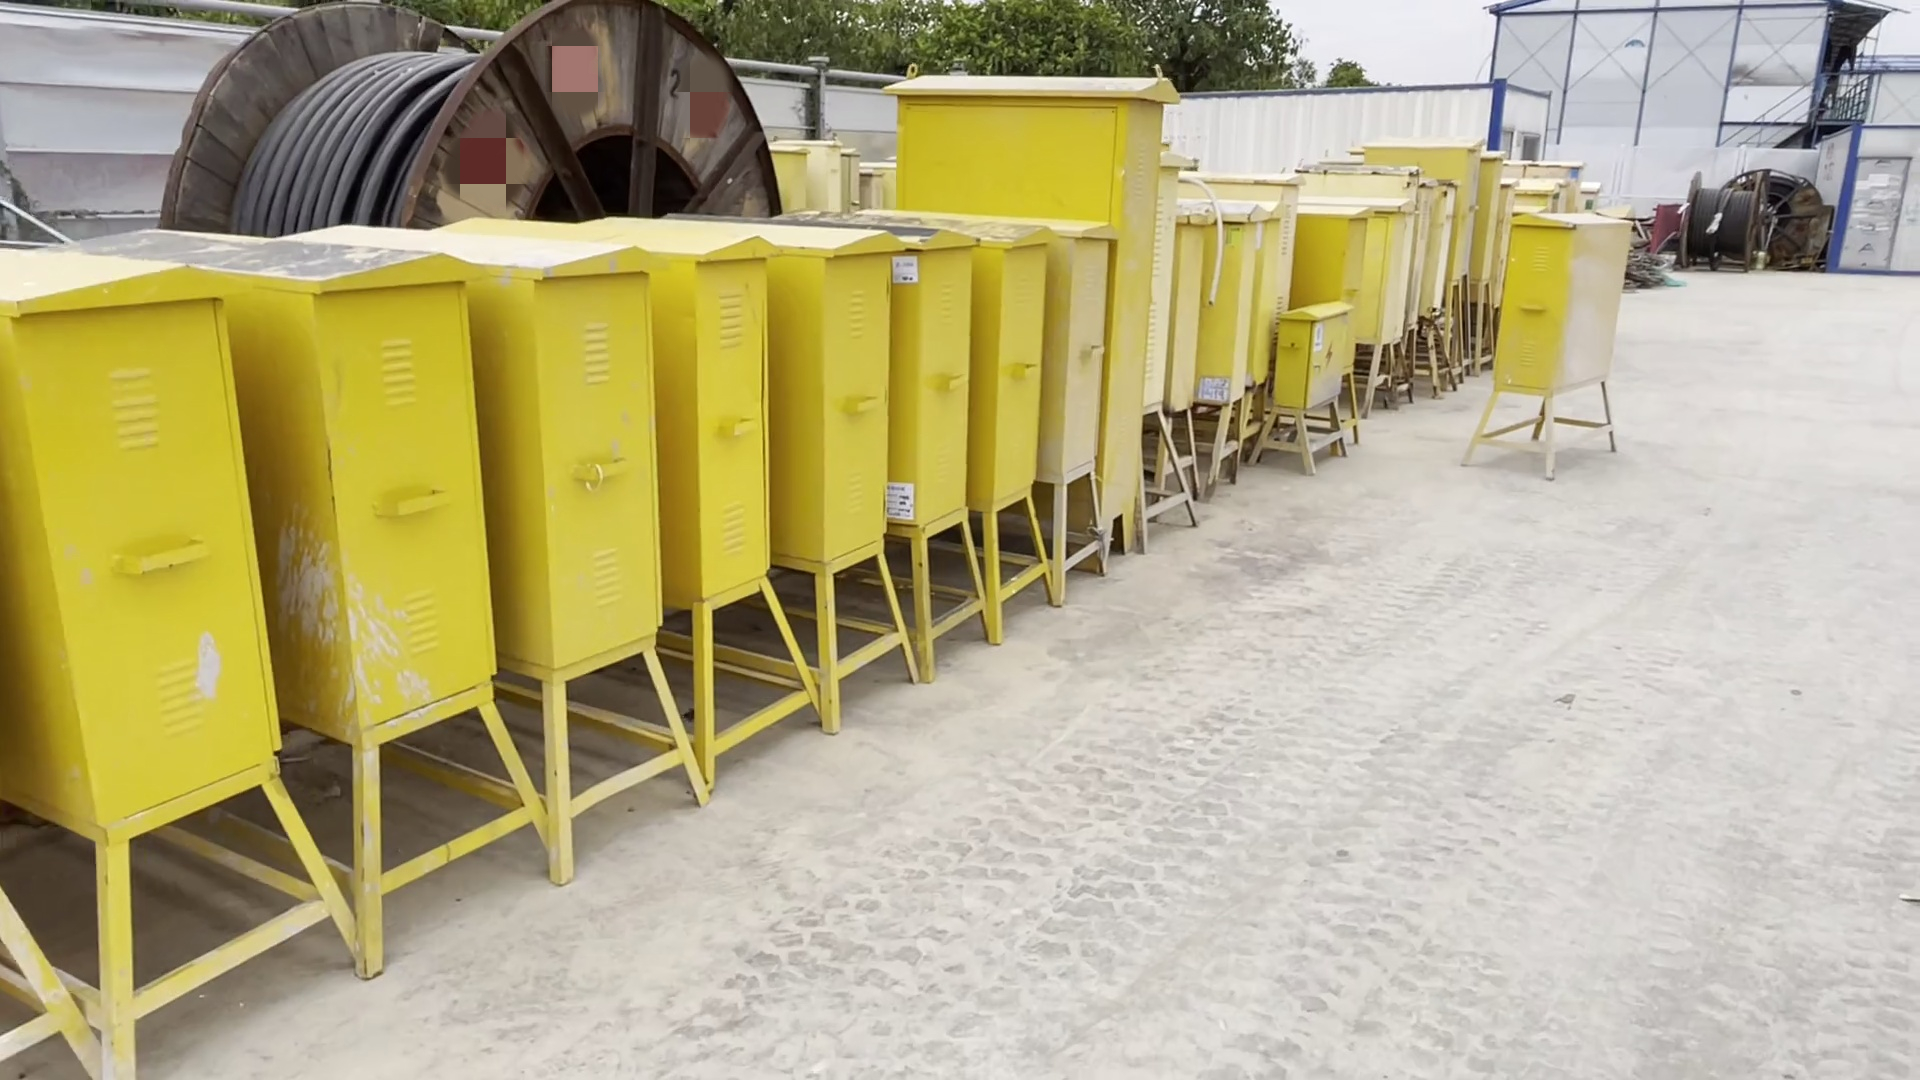ebox: (16, 208, 334, 1080), (204, 214, 545, 938), (465, 207, 705, 822), (886, 69, 1145, 550), (640, 216, 827, 738), (785, 239, 913, 702), (889, 223, 992, 673), (1476, 214, 1625, 472), (968, 220, 1059, 618), (1046, 220, 1113, 571), (1258, 305, 1346, 468)
